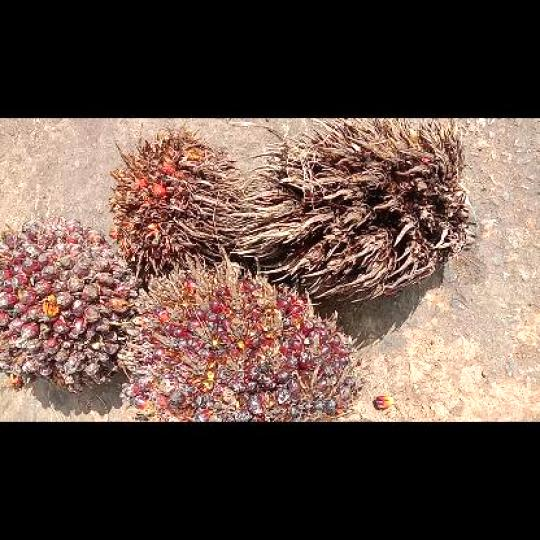kurang masak: (2, 215, 146, 395)
masak: (120, 252, 364, 420)
terlalu masak: (104, 121, 248, 278)
